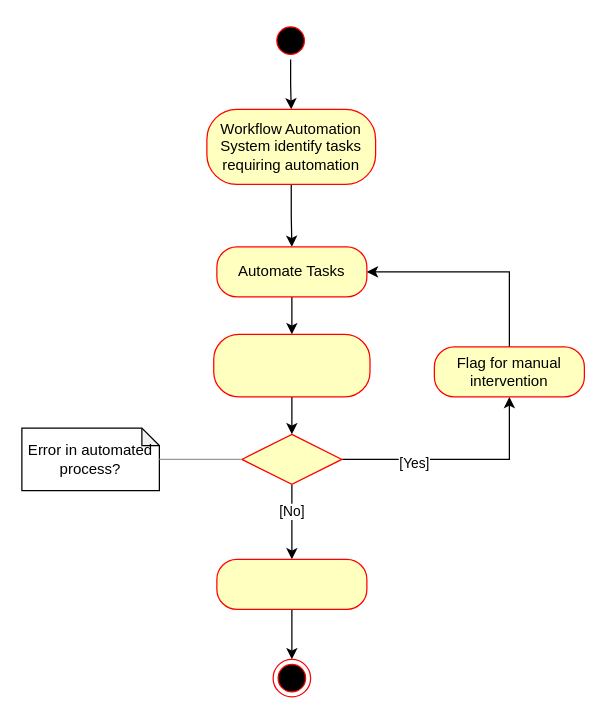
The diagram is 606 pixels wide and 719 high, and some of its shapes have lost their labels. The centre of each missing label's shape, as x and y in pixels:
"Execute tasks based on predefined rules" belongs at [291,365].
"Track and Log Actions" belongs at [291,583].
